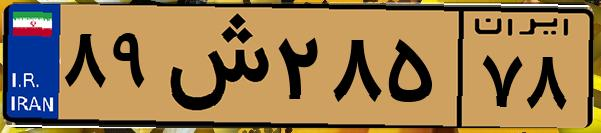2: (270, 28, 330, 110)
5: (385, 28, 445, 110)
7: (475, 38, 525, 113)
8: (330, 28, 385, 110), (57, 26, 110, 100), (525, 38, 570, 115)
9: (110, 28, 158, 98)
ش: (158, 12, 270, 120)
